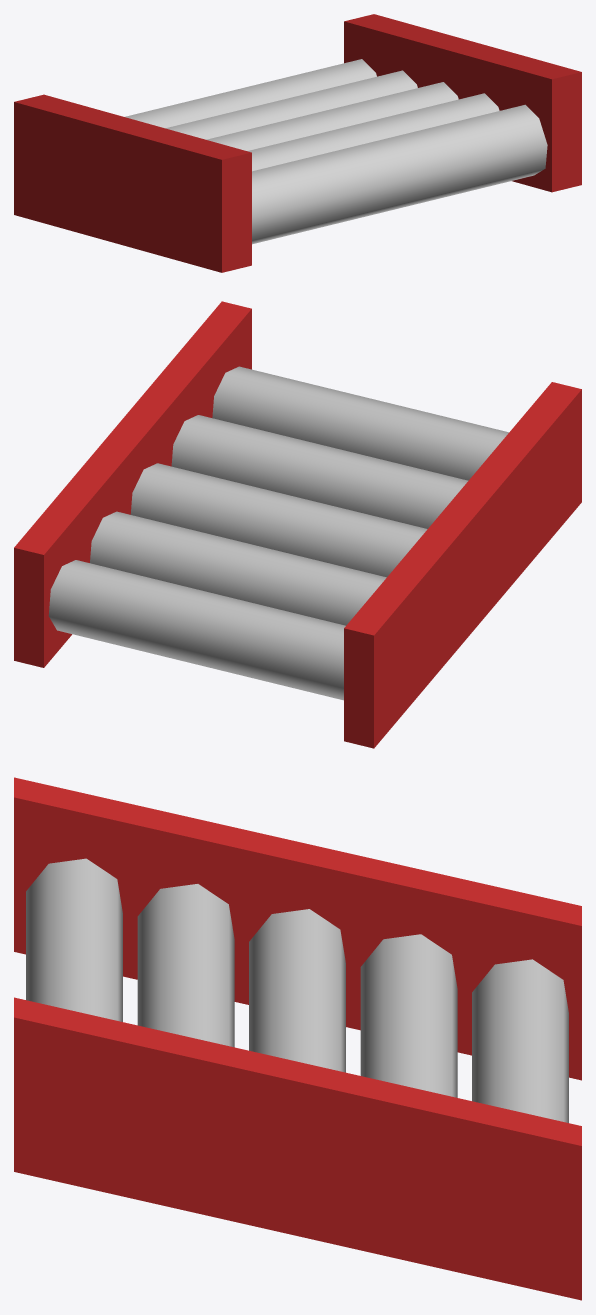
Rendered from Down Elevation Conveyor Belt.fbx.
The picture shows the model from 3 angles, top to bottom: view 1: azimuth 30°, elevation 25°; view 2: azimuth 150°, elevation 25°; view 3: azimuth 270°, elevation 25°; orthographic projection. The views are drawn at different scales.
Visible parts, largest first — view 1: Down Elevation Conveyor Belt; view 2: Down Elevation Conveyor Belt; view 3: Down Elevation Conveyor Belt.
Part boxes in pixels (<box>): Down Elevation Conveyor Belt: <box>14,14,581,272</box>; Down Elevation Conveyor Belt: <box>14,301,581,748</box>; Down Elevation Conveyor Belt: <box>14,777,581,1300</box>.
Bounding box in the file's own units: 1 × 1 × 0.55.
